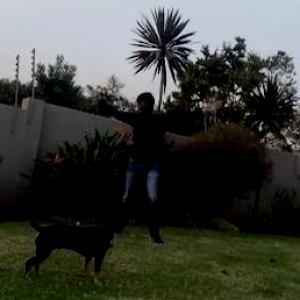takeoff: (95, 79, 238, 233)
